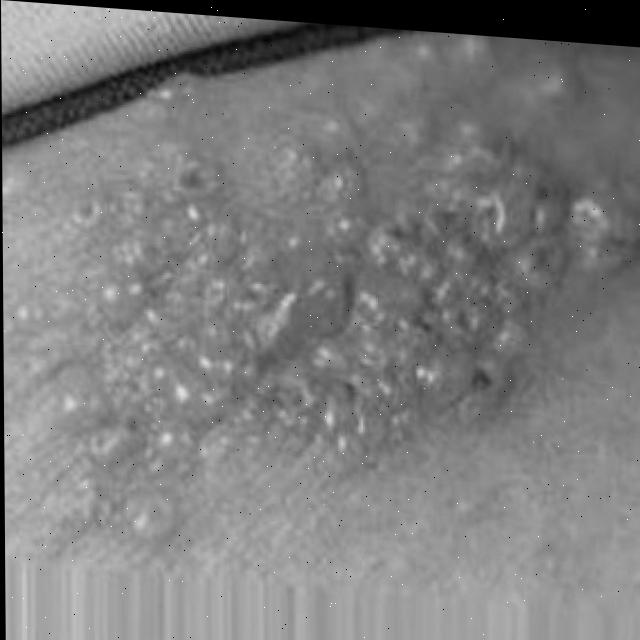Shingles: (30, 76, 640, 536)
